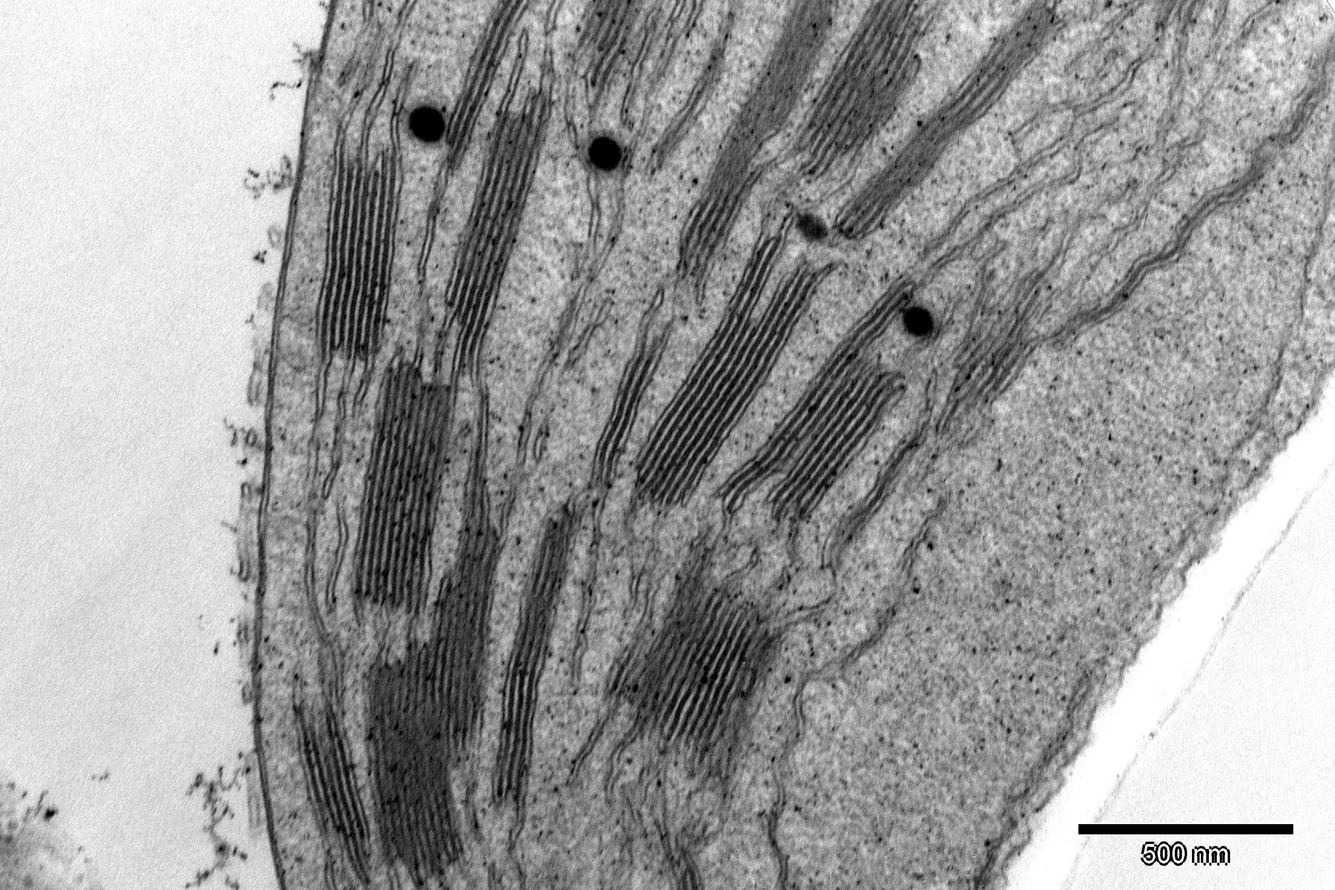granum: (359, 476, 506, 889), (627, 223, 829, 522), (829, 0, 1073, 244), (707, 270, 917, 524), (671, 0, 850, 283), (602, 534, 793, 781), (441, 81, 557, 378), (348, 353, 461, 617), (783, 0, 952, 175), (488, 501, 587, 793), (313, 143, 407, 365), (943, 264, 1067, 420), (291, 696, 375, 865), (441, 0, 534, 152), (582, 341, 668, 489), (570, 0, 647, 94), (1049, 292, 1110, 355), (660, 840, 710, 890)
